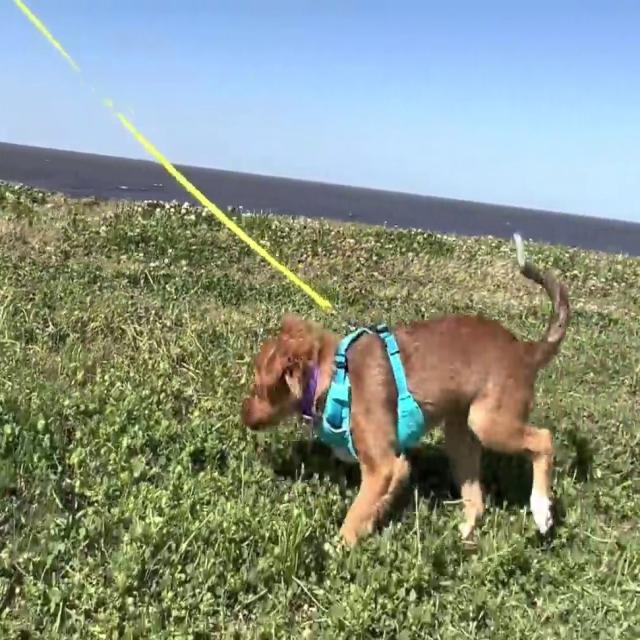Dog: (242, 230, 571, 549)
